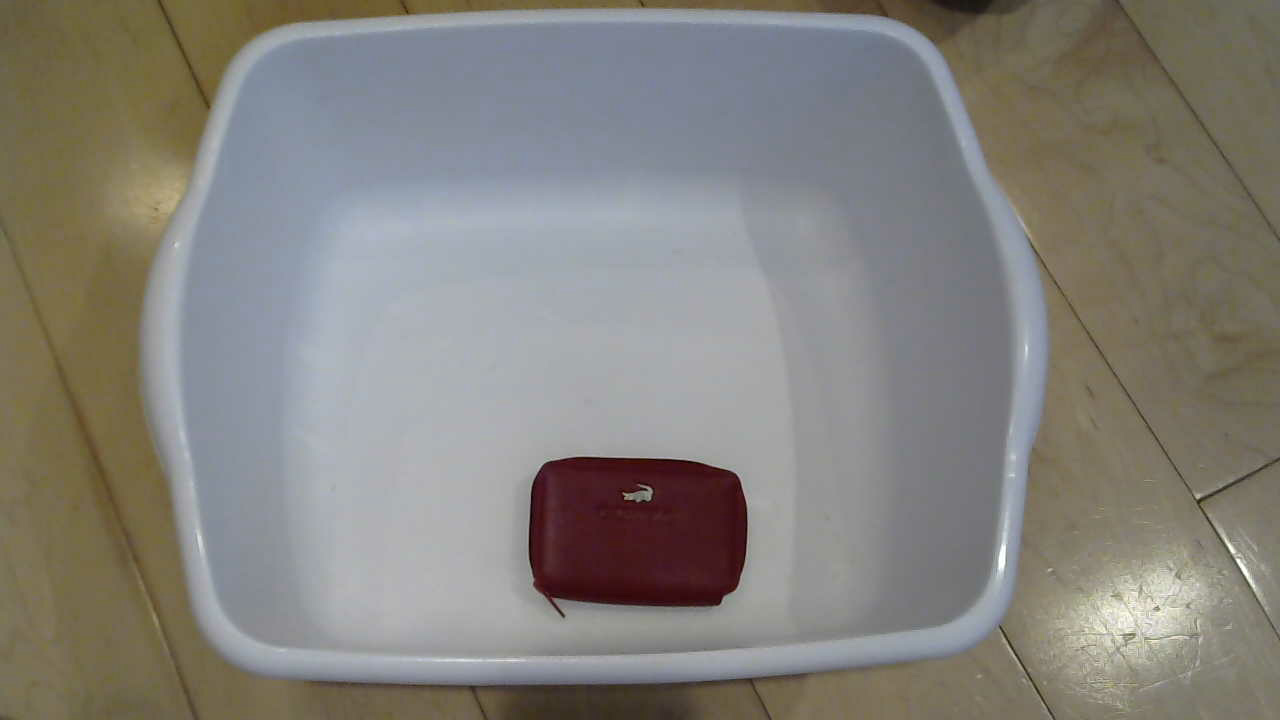wallet: (519, 435, 776, 627)
